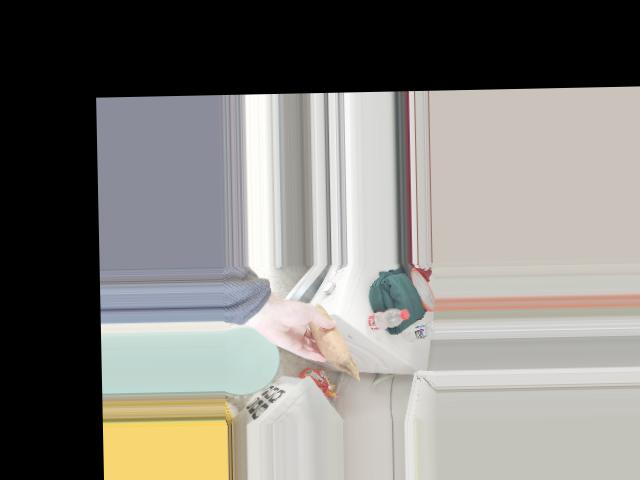sweet_potato: (305, 312, 347, 359)
